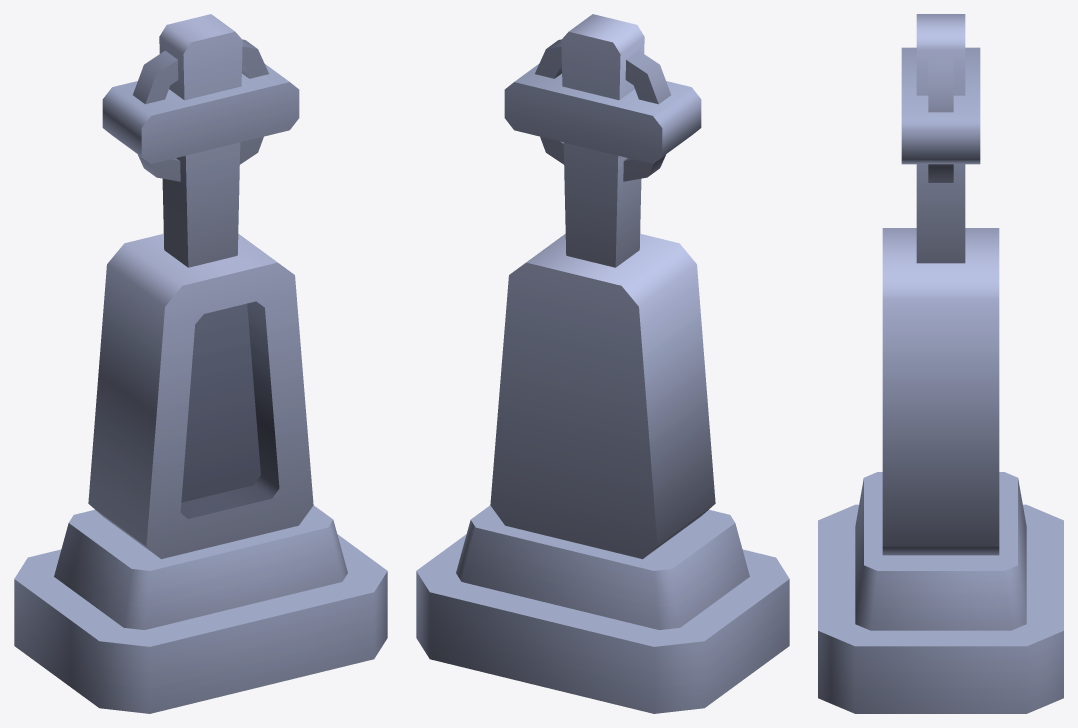
The model's file is k-graveyard-gravestone-cross.glb.
3 renders of one model, left to right at view 1: azimuth 30°, elevation 25°; view 2: azimuth 150°, elevation 25°; view 3: azimuth 270°, elevation 25°, orthographic.
Parts seen in each view (by area): view 1: gravestone-cross; view 2: gravestone-cross; view 3: gravestone-cross.
Boxes of the visible parts, bbox=[...] form: gravestone-cross: bbox=[14, 14, 387, 713]; gravestone-cross: bbox=[416, 14, 789, 713]; gravestone-cross: bbox=[818, 14, 1063, 713].
Bounding box in the file's own units: 0.4499 × 0.915 × 0.33.
Materials: 1 (1 with a texture image).
